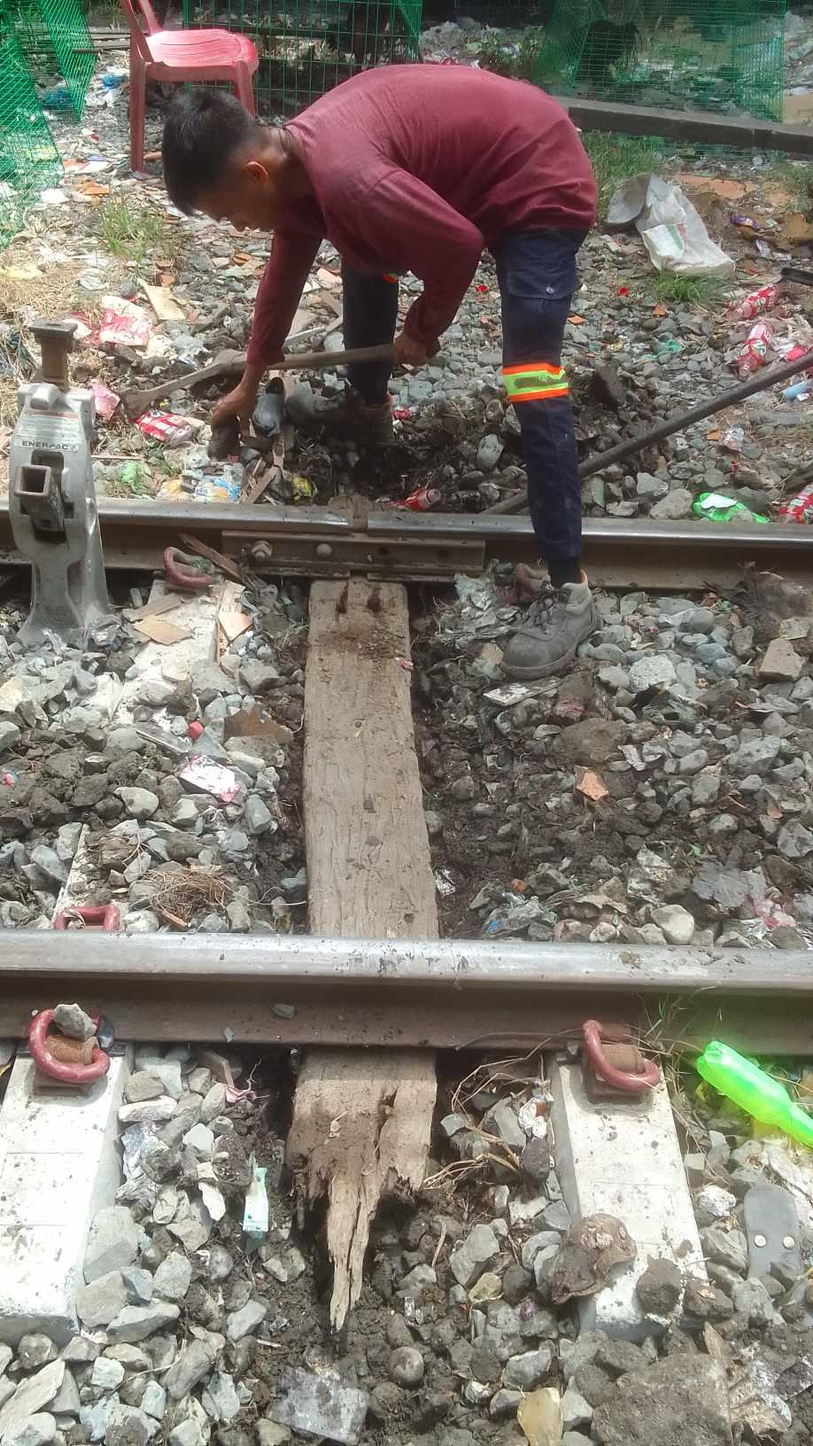railway-gap: (326, 495, 389, 549), (340, 557, 379, 588)
